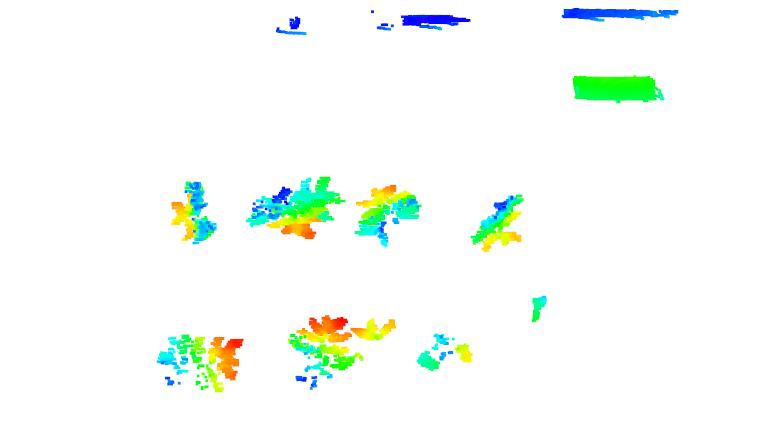chickpea: (243, 173, 350, 243), (291, 315, 364, 393), (157, 331, 243, 396), (349, 181, 427, 250), (464, 191, 533, 254), (167, 176, 219, 248), (416, 332, 473, 374), (350, 309, 404, 348)
